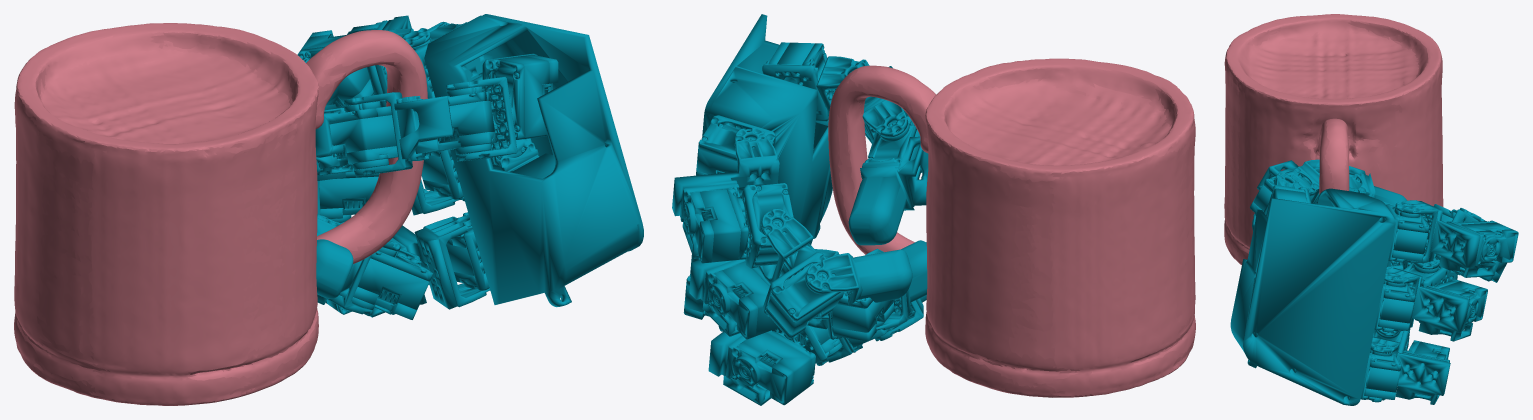
The picture shows the model from 3 angles, left to right: view 1: azimuth 30°, elevation 25°; view 2: azimuth 150°, elevation 25°; view 3: azimuth 270°, elevation 25°; orthographic projection. The views are drawn at different scales.
Visible parts, largest first — view 1: world; view 2: world; view 3: world.
Boxes of the visible parts, x1=… form: world: x1=14, y1=14, x2=643, y2=405; world: x1=672, y1=14, x2=1195, y2=405; world: x1=1224, y1=14, x2=1518, y2=405.
Size of the model in its own units: 0.2819 by 0.1697 by 0.1826.
